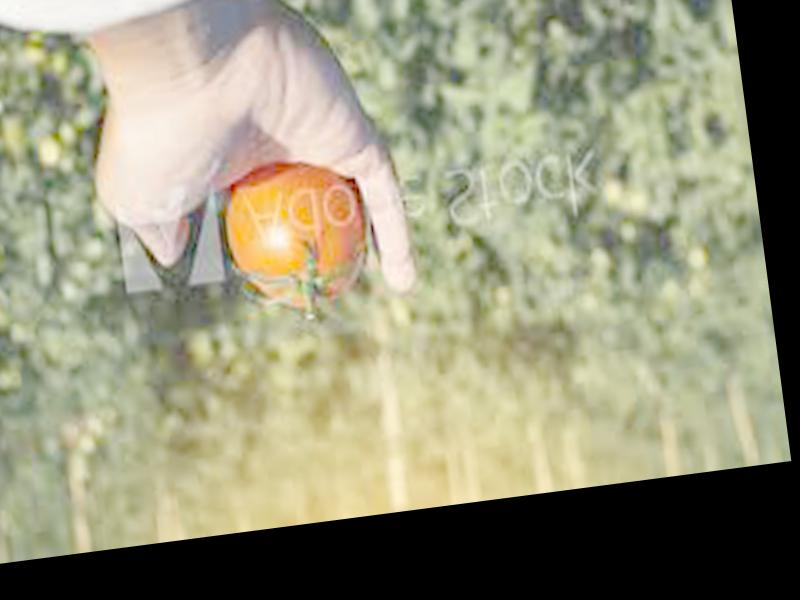Tomato: (223, 159, 377, 313)
